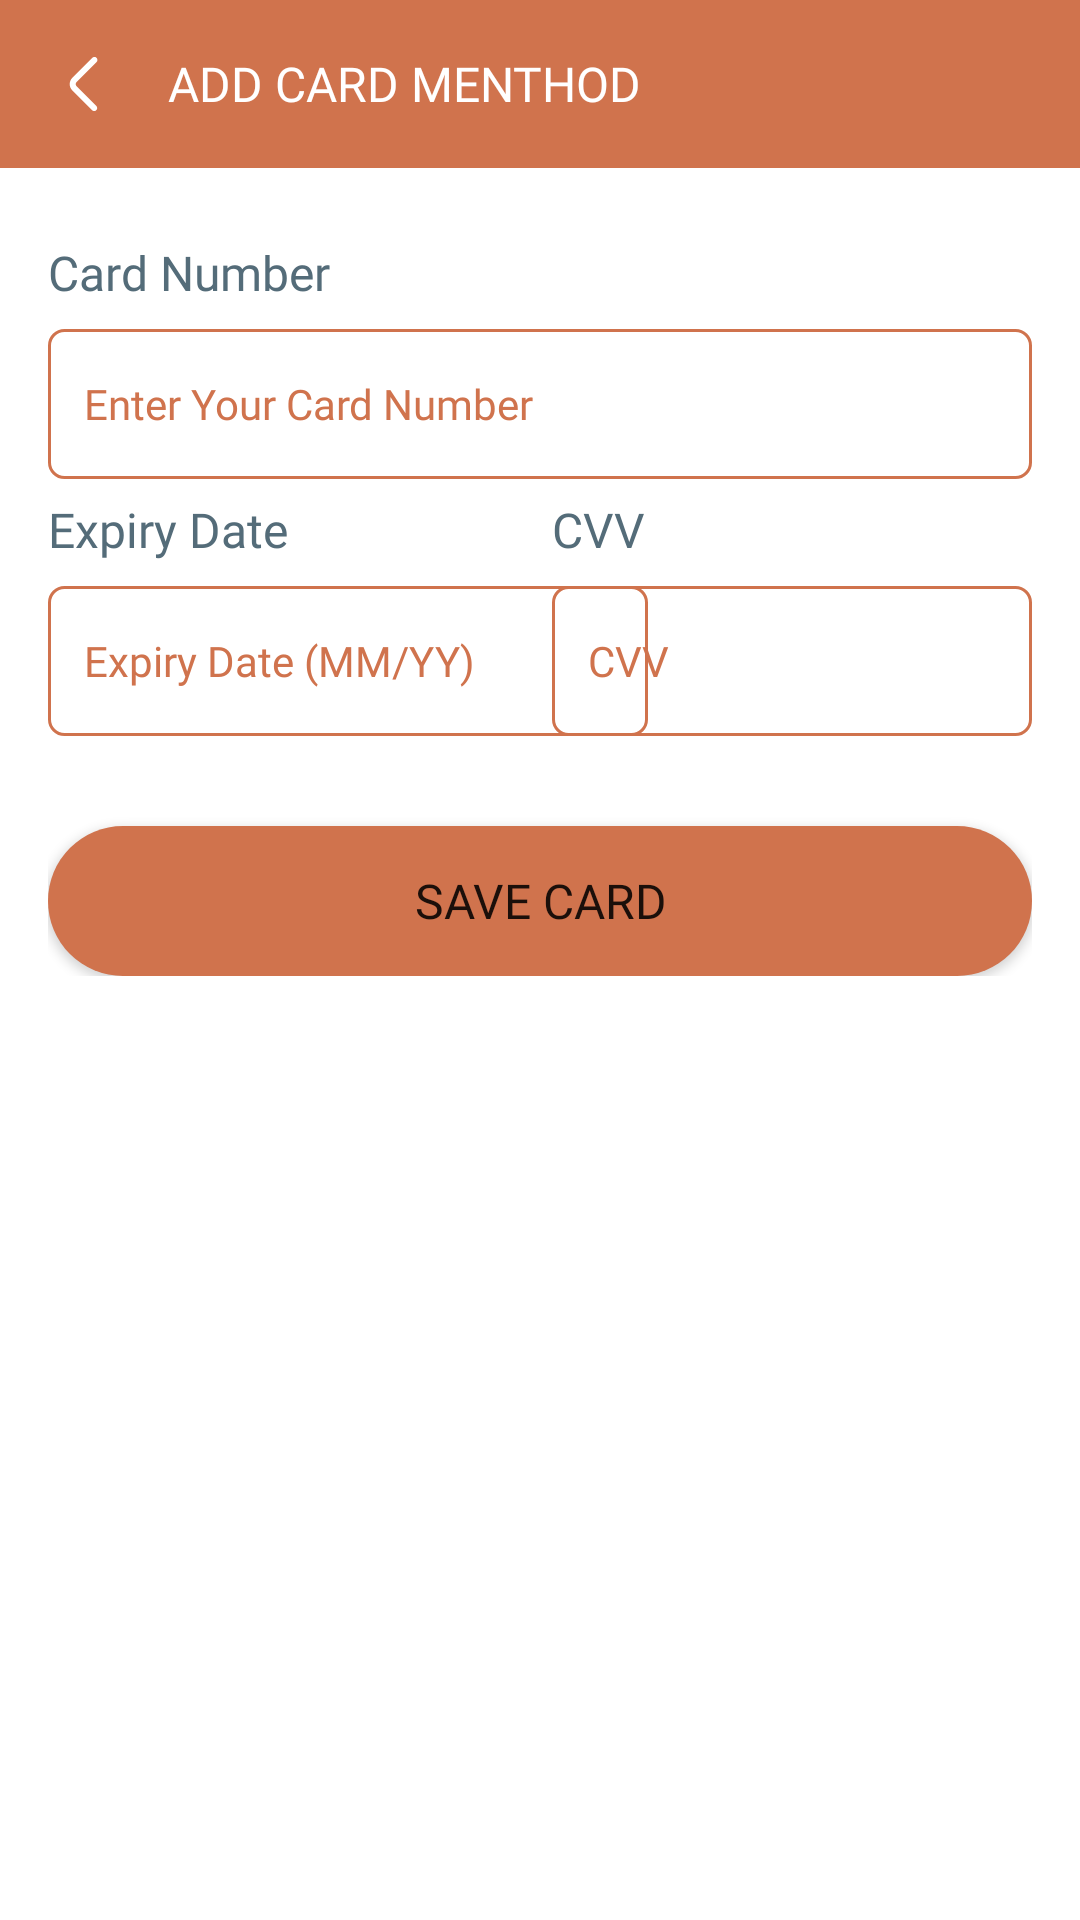

Screen size 1080w x 1920h. Icon name, then its box in pixels as bbox=[x1, y1, x2, y2]:
back: bbox=[69, 57, 98, 111]
